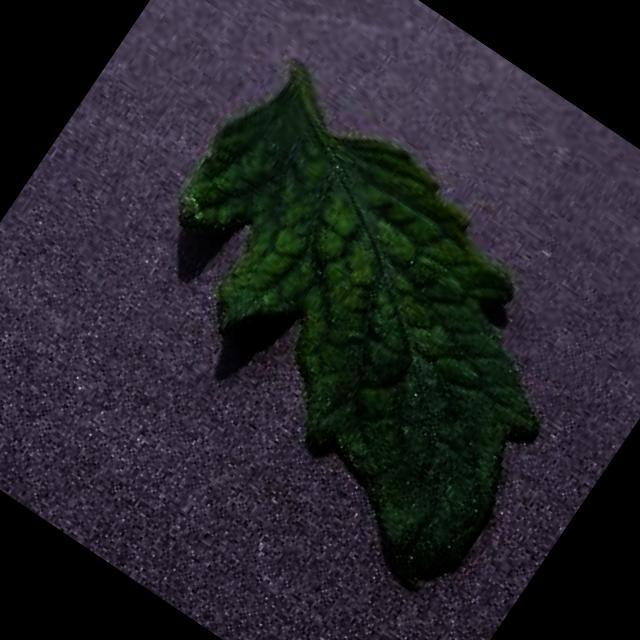Tomato mosaic virus leaf: (67, 57, 636, 602)
